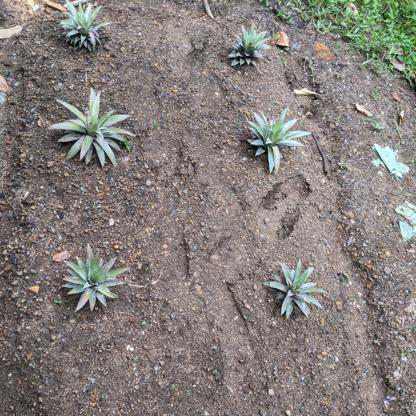pineapple: (50, 87, 136, 173), (61, 243, 133, 316), (244, 107, 312, 176), (264, 257, 329, 323), (58, 1, 120, 53), (228, 22, 272, 71)
